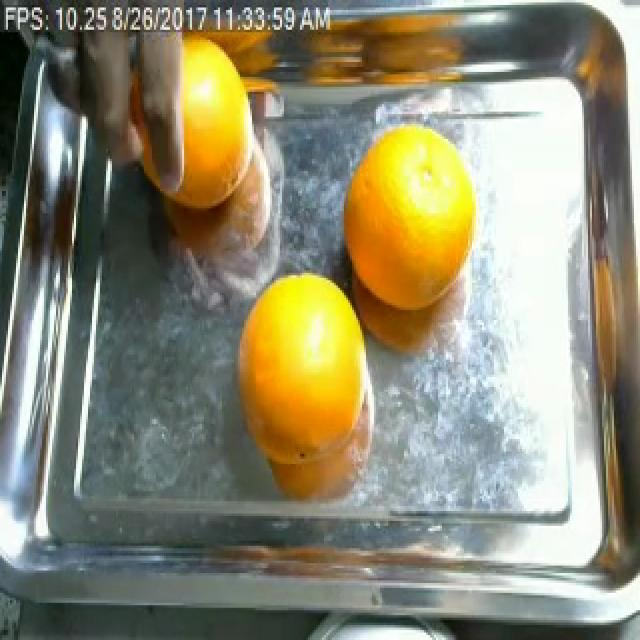Fruit: (328, 104, 492, 315), (128, 15, 270, 228), (222, 258, 376, 451)
